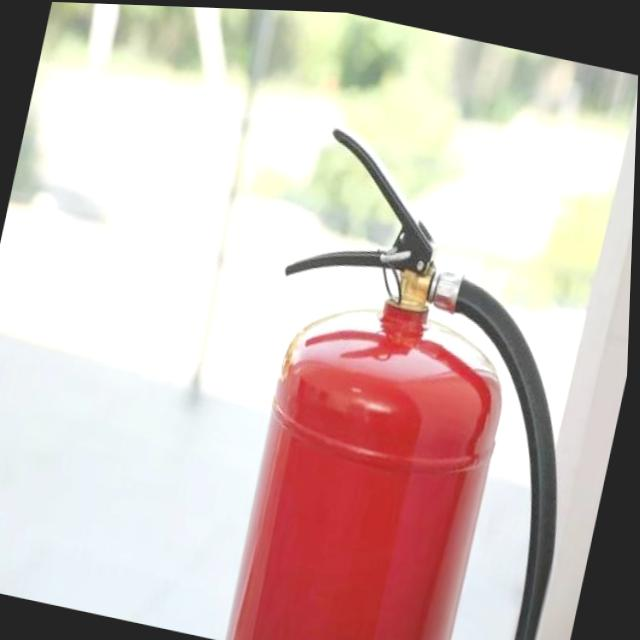FireExtinguisher: (205, 109, 637, 640)
